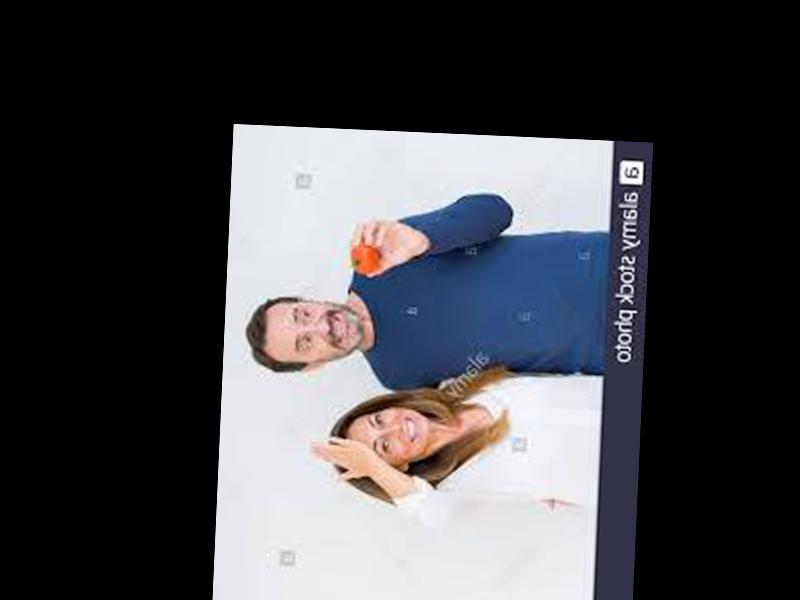Tomato: (347, 244, 378, 274)
